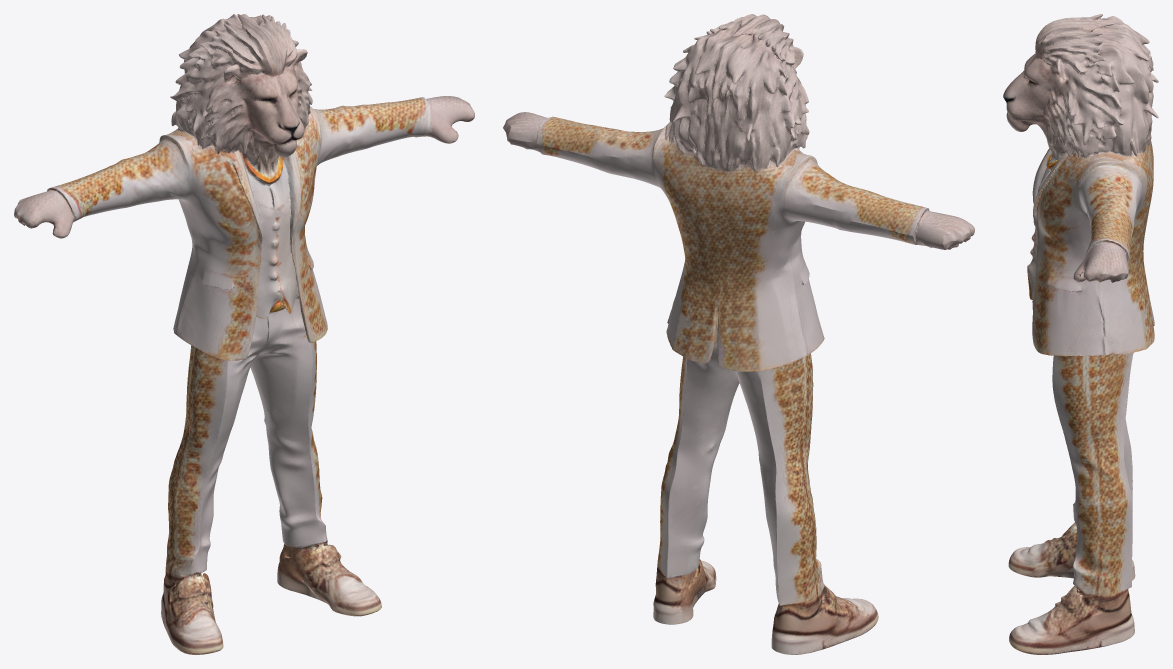
Rendered from sheru_3d_model.glb.
3 views of the same model, side by side, from view 1: azimuth 30°, elevation 25°; view 2: azimuth 150°, elevation 25°; view 3: azimuth 270°, elevation 25° (orthographic). The views are drawn at different scales.
Visible parts, largest first — view 1: Object_2, Object_3; view 2: Object_2, Object_3; view 3: Object_2, Object_3.
Boxes of the visible parts, box(x1,y1,x2,y2) form: Object_2: box(14, 14, 473, 654); Object_3: box(63, 14, 474, 517); Object_2: box(526, 41, 974, 654); Object_3: box(503, 14, 822, 577); Object_2: box(1008, 35, 1158, 654); Object_3: box(1003, 14, 1153, 594).
Bounding box in the file's own units: 1.53 × 1.9 × 0.4546.
1 material, 1 textured.
